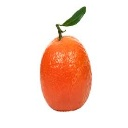orange: (40, 21, 94, 112)
